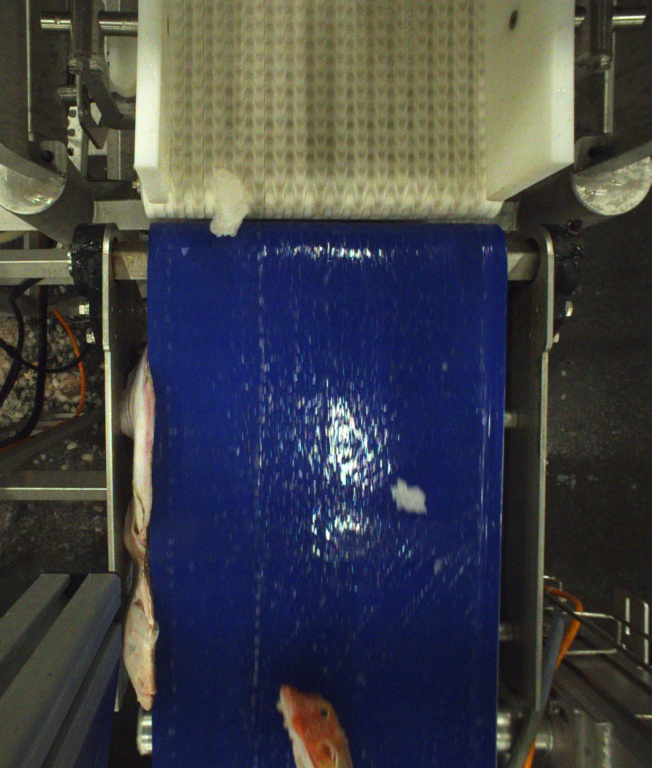GUU: (277, 686, 353, 768)
